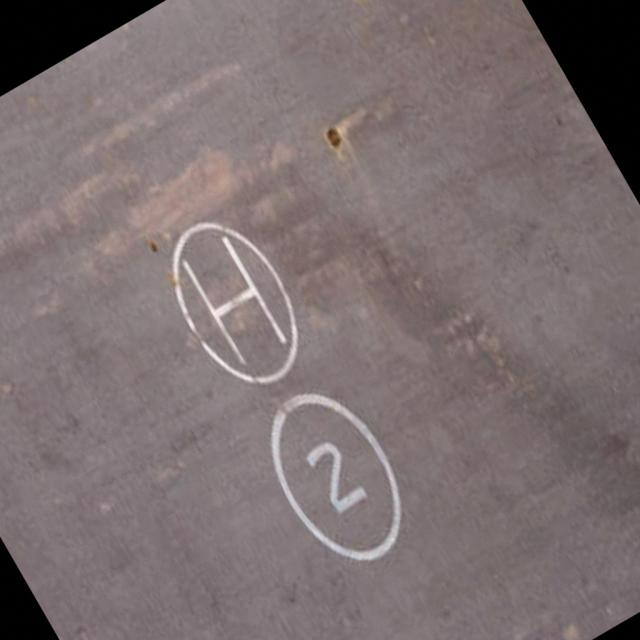helipad: (165, 218, 304, 388)
